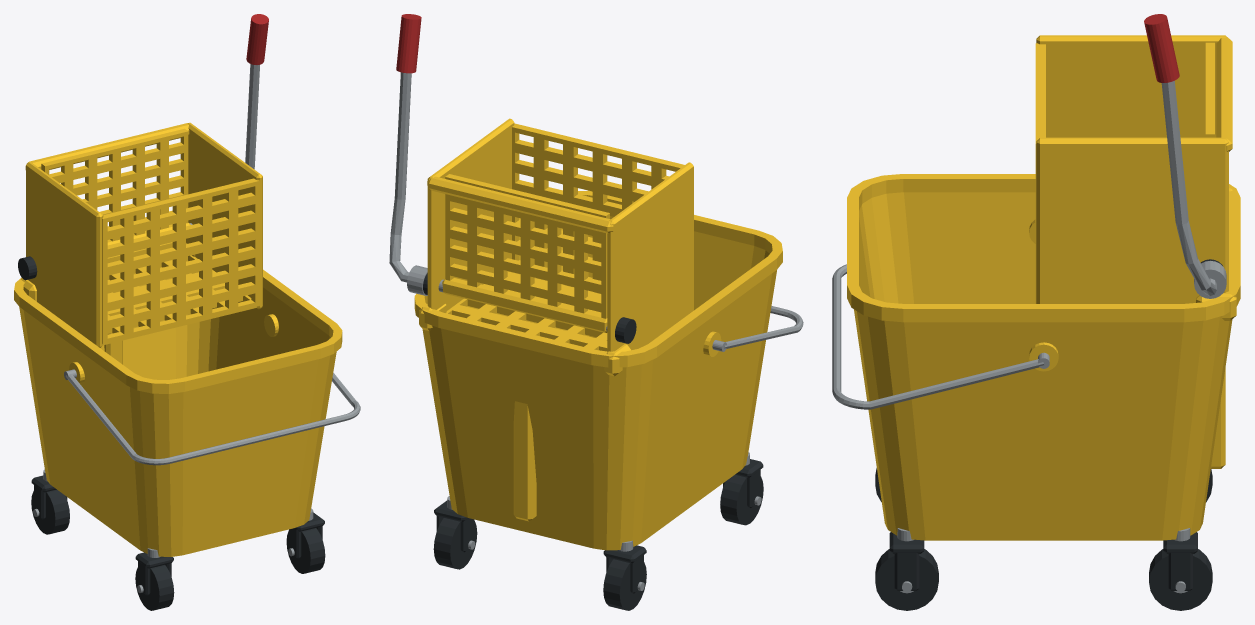
3 views of the same model, side by side, from view 1: azimuth 30°, elevation 25°; view 2: azimuth 150°, elevation 25°; view 3: azimuth 270°, elevation 25° (orthographic). The views are drawn at different scales.
Parts seen in each view (by area): view 1: Hollow tapered bucket, Perforated fixed wringer front, Wringer side cheek -1, Hinged compression plate, Reinforced open bucket lip, Wringer side cheek 1, Front curved bail handle, Perforated wringer floor, Caster wheel 1_-1, Caster wheel -1_-1, Caster wheel -1_1, Bent wringer operating lever (+2 smaller); view 2: Hollow tapered bucket, Hinged compression plate, Wringer side cheek -1, Perforated fixed wringer front, Reinforced open bucket lip, Wringer side cheek 1, Perforated wringer floor, Upper rear bridge, Compression bottom hinge rib, Rear exterior stiffening rib, Bent wringer operating lever, Caster wheel -1_1 (+4 smaller); view 3: Hollow tapered bucket, Wringer side cheek 1, Wringer side cheek -1, Reinforced open bucket lip, Front curved bail handle, Bent wringer operating lever, Caster wheel 1_-1, Caster wheel 1_1, Upper rear bridge, Lever red grip, Perforated fixed wringer front, Hinged compression plate (+4 smaller).
Boxes of the visible parts, x1,y1,x2,y2 form: Hollow tapered bucket: (19,260,336,556); Perforated fixed wringer front: (102,178,259,343); Wringer side cheek -1: (26,161,103,347); Hinged compression plate: (41,128,188,241); Reinforced open bucket lip: (14,242,342,393); Wringer side cheek 1: (186,122,262,309); Front curved bail handle: (66,373,360,465); Perforated wringer floor: (103,255,256,345); Caster wheel 1_-1: (286,528,325,573); Caster wheel -1_-1: (135,565,174,610); Caster wheel -1_1: (31,489,69,534); Bent wringer operating lever: (245,64,259,169); Hollow tapered bucket: (422,216,776,550); Hinged compression plate: (445,174,609,318); Wringer side cheek -1: (607,162,693,351); Perforated fixed wringer front: (512,123,684,280); Reinforced open bucket lip: (414,190,782,367); Wringer side cheek 1: (427,118,514,310); Perforated wringer floor: (446,271,607,351); Upper rear bridge: (427,176,613,233); Compression bottom hinge rib: (442,278,607,332); Rear exterior stiffening rib: (513,401,536,521); Bent wringer operating lever: (389,72,411,282); Caster wheel -1_1: (603,559,646,610); Hollow tapered bucket: (854,192,1232,540); Wringer side cheek 1: (1036,137,1228,303); Wringer side cheek -1: (1036,35,1226,137); Reinforced open bucket lip: (847,174,1240,322); Front curved bail handle: (832,264,1044,409); Bent wringer operating lever: (1161,81,1216,295); Caster wheel 1_-1: (875,549,938,610); Caster wheel 1_1: (1149,549,1212,610); Upper rear bridge: (1216,37,1232,151); Lever red grip: (1144,14,1179,82); Perforated fixed wringer front: (1035,43,1045,303); Hinged compression plate: (1205,42,1214,137).
Bounding box in the file's own units: 0.502 × 0.9251 × 0.552.
